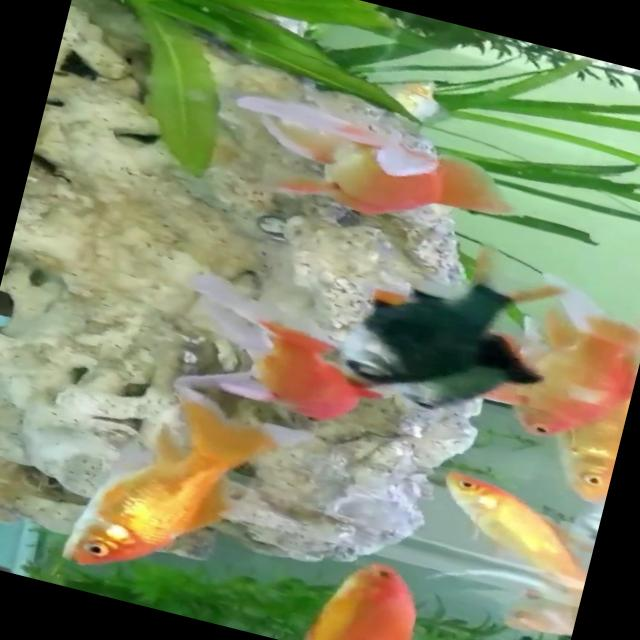GoldFish: (45, 370, 288, 611), (278, 103, 515, 245), (410, 456, 604, 590), (201, 306, 390, 431), (503, 300, 640, 454), (299, 556, 426, 640)
